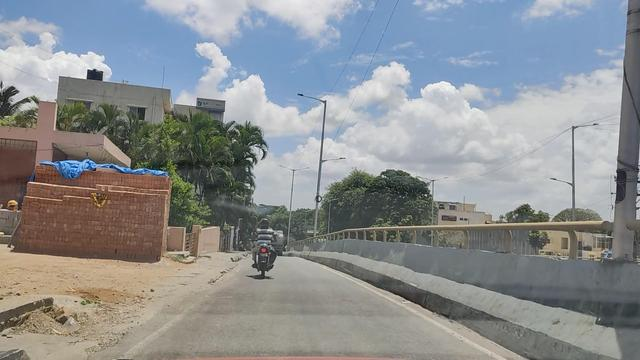LMV: (242, 214, 280, 277)
RoadDamages: (19, 296, 164, 350)
